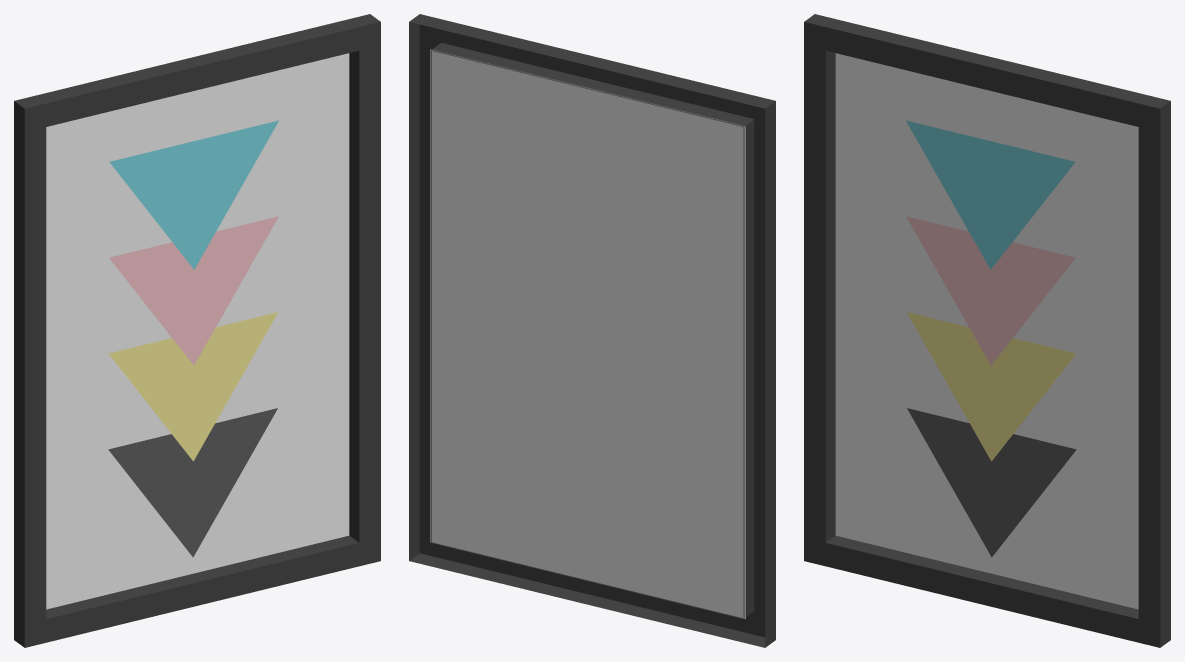
File: Photo_Frame_M_07.fbx
3 renders of one model, left to right at view 1: azimuth 30°, elevation 25°; view 2: azimuth 150°, elevation 25°; view 3: azimuth 330°, elevation 25°, orthographic.
Parts seen in each view (by area): view 1: Photo_Frame_M_07; view 2: Photo_Frame_M_07; view 3: Photo_Frame_M_07.
Part boxes in pixels (bbox=[...]): Photo_Frame_M_07: bbox=[14, 14, 380, 647]; Photo_Frame_M_07: bbox=[409, 14, 775, 647]; Photo_Frame_M_07: bbox=[804, 14, 1170, 647].
Size of the model in its own units: 55.69 by 80.59 by 2.91.
1 material, 1 textured.
